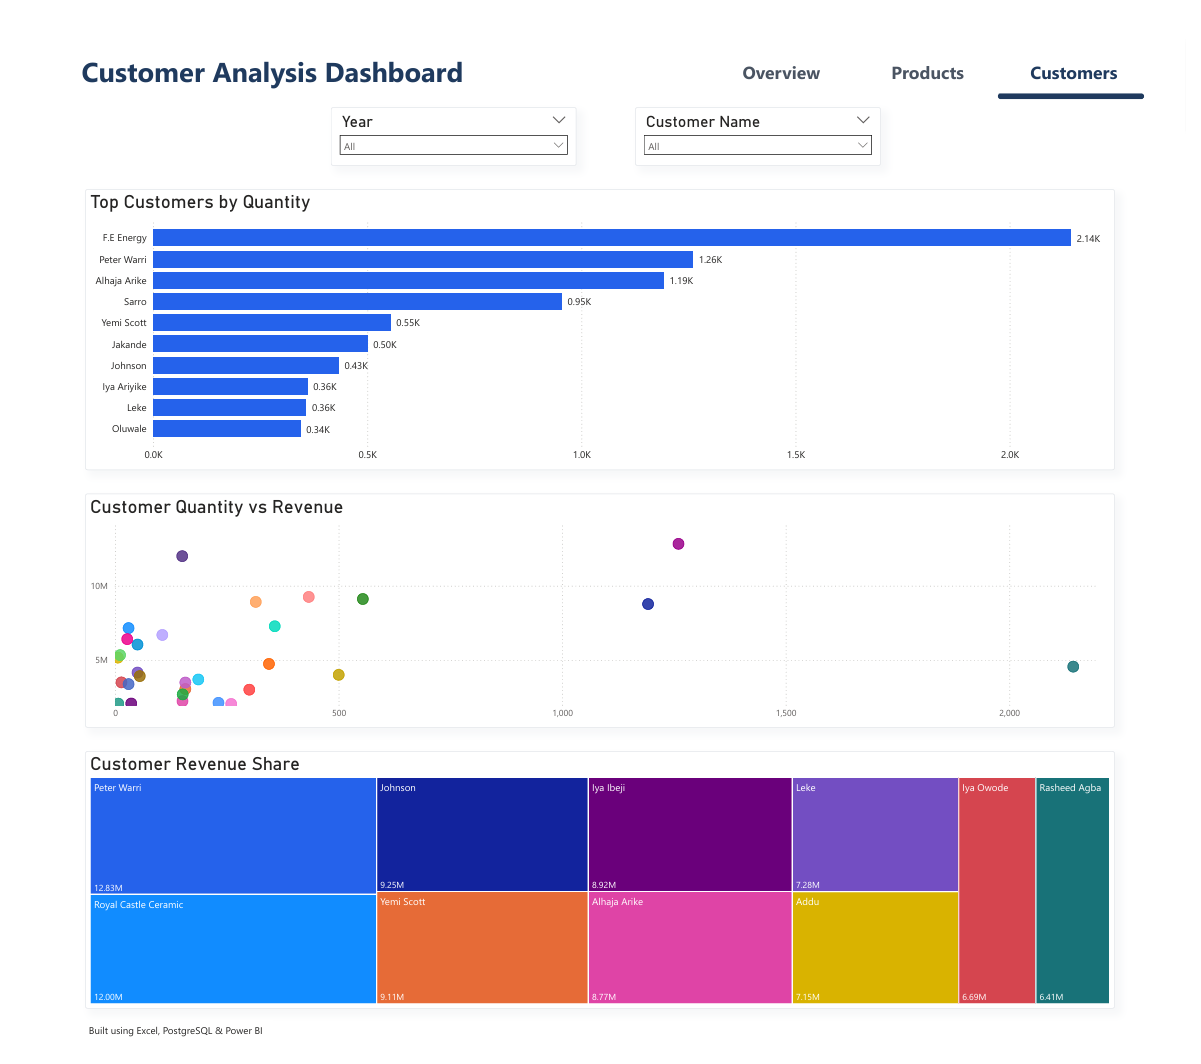

Layout of this report page (visuals, bound fields, positions):
{"tool":"powerbi","page":{"name":"Customer Analysis","canvas":[1600,1410],"ordinal":2},"visuals":[{"type":"clusteredBarChart","title":"Top Customers by Quantity","fields":{"Category":["public vw_customer_performance.customer_name"],"Y":["Sum(public vw_customer_performance.total_quantity)"]},"box":[96,240,1408,384],"z":0},{"type":"shape","box":[0,0,1600,112],"z":1000},{"type":"scatterChart","title":"Customer Quantity vs Revenue","fields":{"X":["public vw_customer_performance.total_quantity"],"Y":["public vw_customer_performance.total_revenue"],"Series":["public vw_customer_performance.customer_name"]},"box":[96,656,1408,320],"z":2000},{"type":"treemap","title":"Customer Revenue Share","fields":{"Group":["public vw_customer_revenue_share.customer_name"],"Values":["Sum(public vw_customer_revenue_share.total_revenue)"]},"box":[96,1008,1408,352],"z":3000},{"type":"slicer","fields":{"Values":["public rope_sales_clean.sales_date"]},"box":[432,128,336,80],"z":4000},{"type":"slicer","fields":{"Values":["public rope_sales_clean.customer_name"]},"box":[848,128,336,80],"z":5000},{"type":"textbox","title":" Customer Analysis Dashboard","box":[64,48,576,64],"z":6000},{"type":"actionButton","box":[948,48,200,61.7],"z":7000},{"type":"actionButton","box":[1148,48,200,61.7],"z":8000},{"type":"actionButton","box":[1348,48,200,61.7],"z":9000},{"type":"shape","box":[1344,109,200,8],"z":10000},{"type":"textbox","title":"Built using Excel, PostgreSQL & Power BI","box":[96,1376,256,32],"z":11000}]}

Visuals, with their boxes in screenshot pixels (x1, y1, x2, y2), scaled from the page's 1600x1410 canvas onto the 1201x1064 screenshot:
"Top Customers by Quantity" clusteredBarChart: 72, 181, 1129, 471
shape: 0, 0, 1200, 85
"Customer Quantity vs Revenue" scatterChart: 72, 495, 1129, 736
"Customer Revenue Share" treemap: 72, 761, 1129, 1026
slicer - public rope_sales_clean.sales_date: 324, 97, 576, 157
slicer - public rope_sales_clean.customer_name: 637, 97, 889, 157
" Customer Analysis Dashboard" textbox: 48, 36, 480, 85
actionButton: 712, 36, 862, 83
actionButton: 862, 36, 1012, 83
actionButton: 1012, 36, 1162, 83
shape: 1009, 82, 1159, 88
"Built using Excel, PostgreSQL & Power BI" textbox: 72, 1038, 264, 1062
